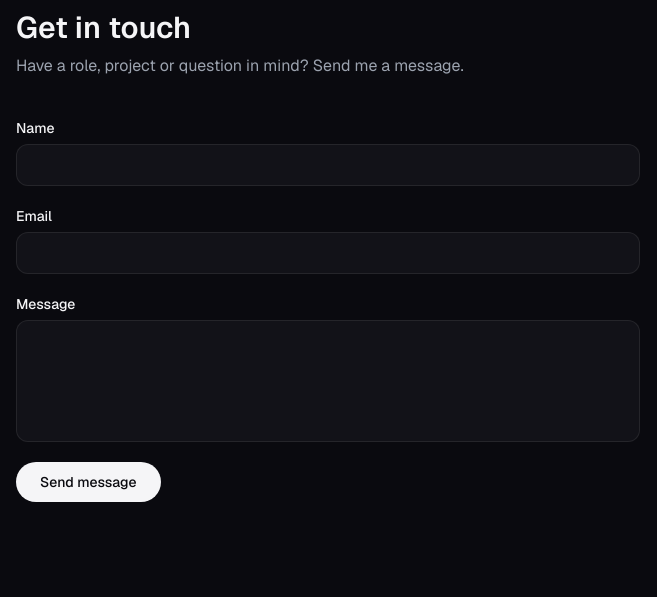
Scenario: Contact › shows validation errors when submitting an empty form
Click the button "Send message" at (88, 482), box [16,462,160,502]
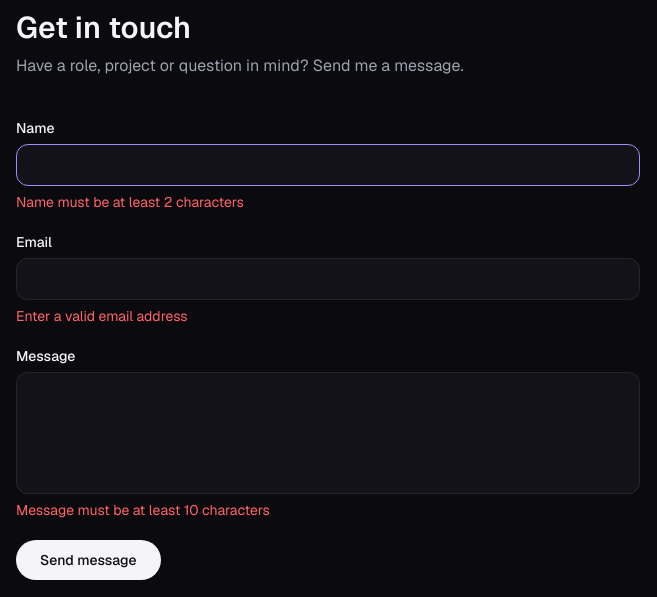
Now the text "Name must be at least 2 characters" is shown, box [16,193,244,211]
Now the text "Enter a valid email address" is shown, box [16,307,188,325]
Now the text "Message must be at least 10 characters" is shown, box [16,501,270,519]
